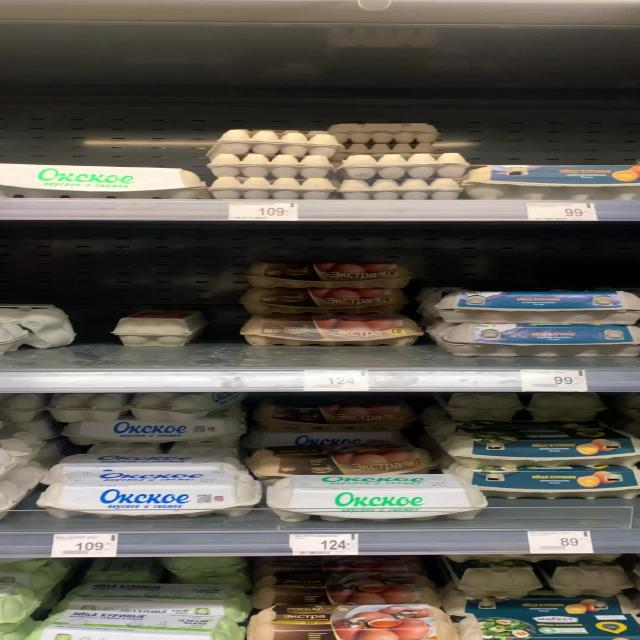egg box: (262, 472, 486, 521), (441, 418, 635, 472), (40, 471, 257, 518), (420, 317, 637, 362), (427, 285, 638, 325), (443, 461, 634, 505), (5, 160, 203, 201), (464, 160, 634, 207), (38, 606, 252, 639), (249, 438, 431, 476), (254, 572, 439, 608), (55, 416, 244, 451), (236, 253, 412, 289), (235, 314, 414, 348), (253, 607, 453, 637), (235, 284, 420, 316), (250, 393, 410, 429), (67, 581, 249, 611)
